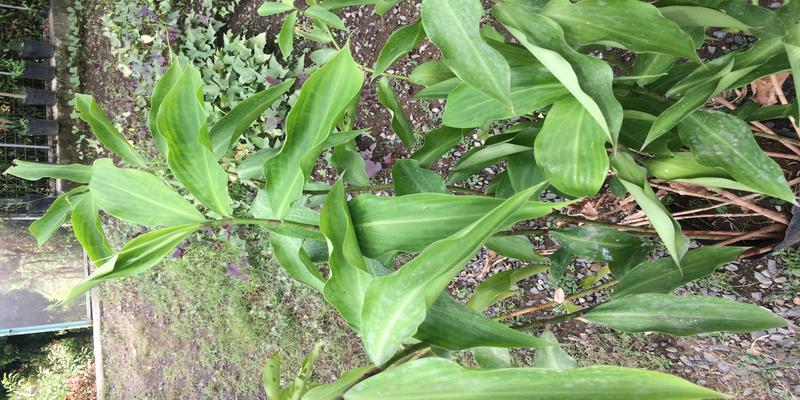Insulin: (99, 49, 756, 372)
